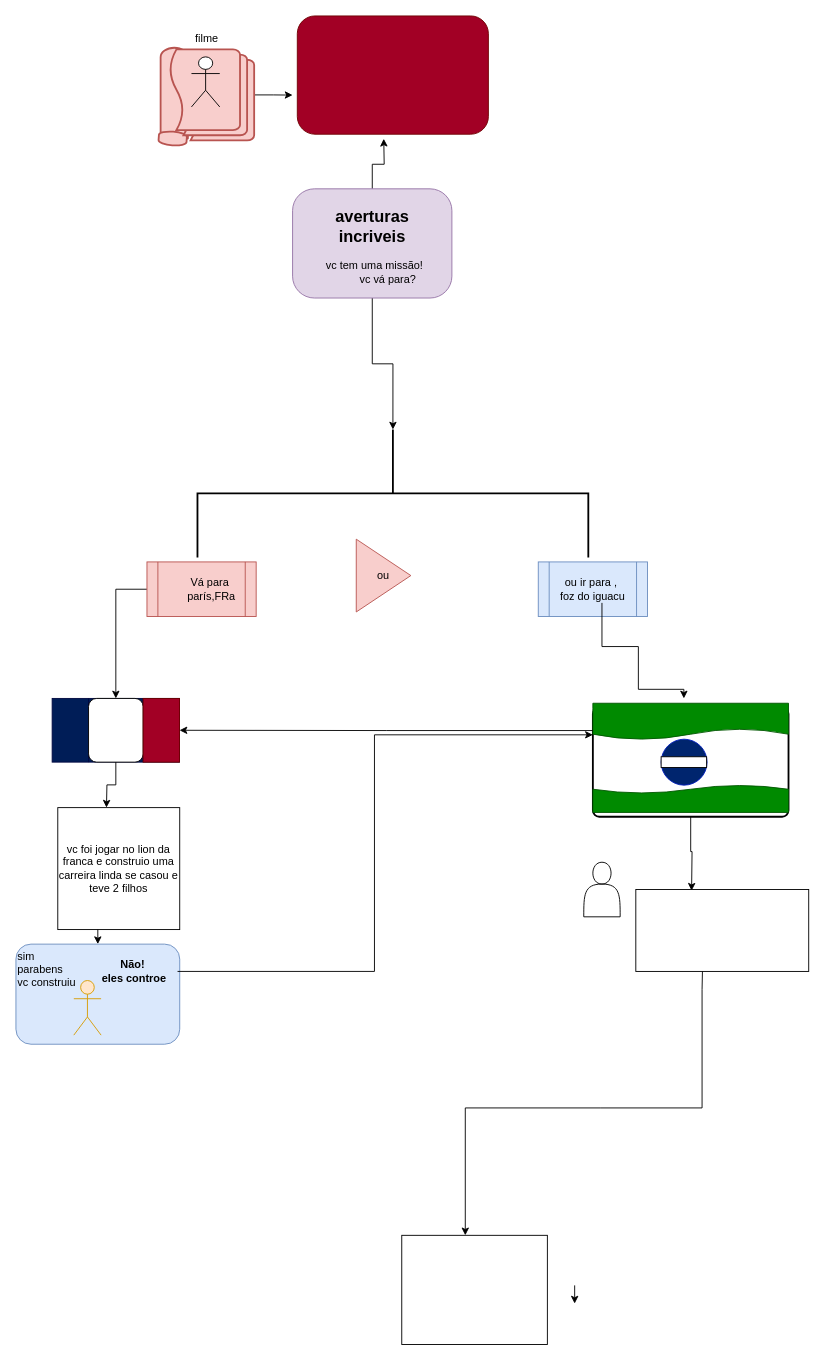
Some shapes in this 825 by 1360 pixel diagram are drawn without their labels. Here are the shapes that lost their labels. From the top down, the centre of each, then its label:
At point 683,761: "párana".
At point 722,930: "vc foi para foz do iguacu, e comecou uma nova jornada la e esta feliz".
At point 474,1289: "VC VOLTA AO TIME QUE INICIOU AO SPORT - RC APOS CONSTRUIR UMA BELA CARREIRA".
